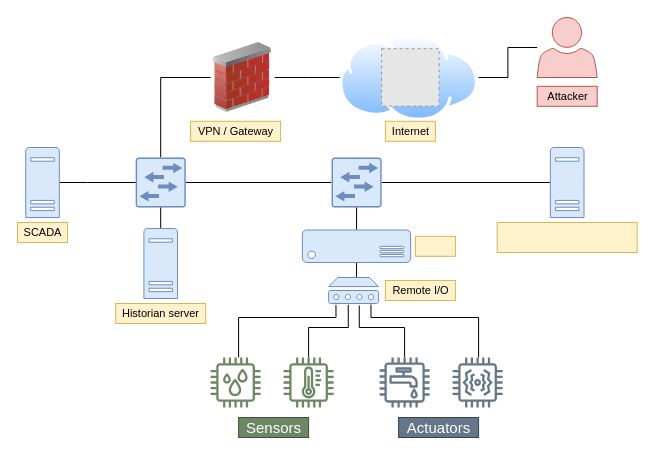
The diagram is 655 pixels wide and 455 high, and some of its shapes have lost their labels. Grey dashed boxes stand in for pictures. The centre of each missing label's shape, as x and y in pixels:
"Human Machine Interface / Workstation" belongs at (566,237).
"PLCs" belongs at (434,245).
